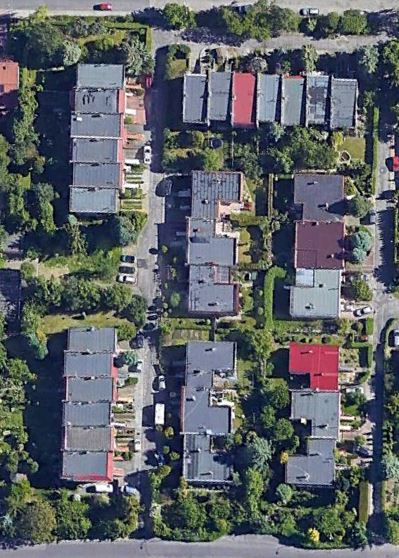terrace house: (179, 66, 367, 134), (279, 161, 353, 325), (65, 59, 133, 222), (58, 323, 123, 484), (176, 335, 243, 487), (182, 165, 246, 319), (281, 337, 343, 493)
